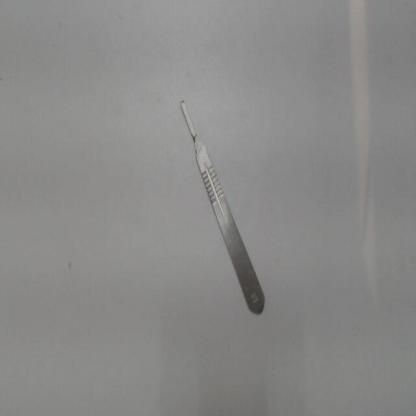No.4 BP Handle: (160, 75, 279, 330)
